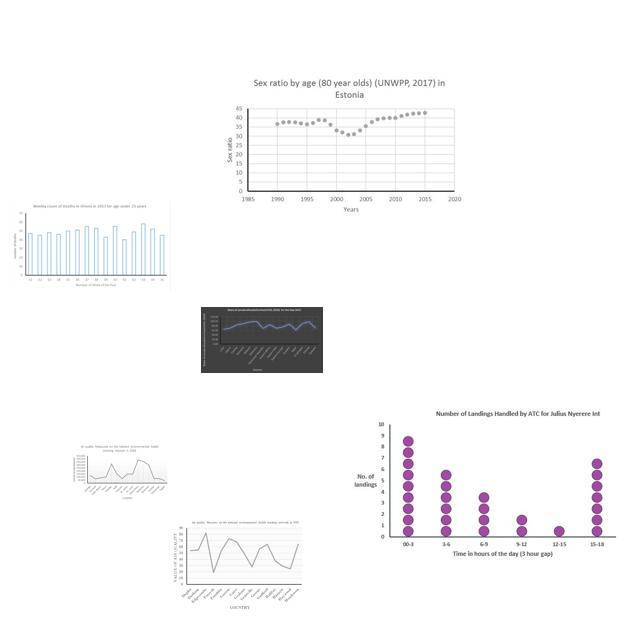Graph: (345, 404, 622, 564), (220, 72, 465, 218), (9, 201, 171, 291), (170, 518, 304, 611), (201, 307, 323, 373), (70, 443, 169, 501)
